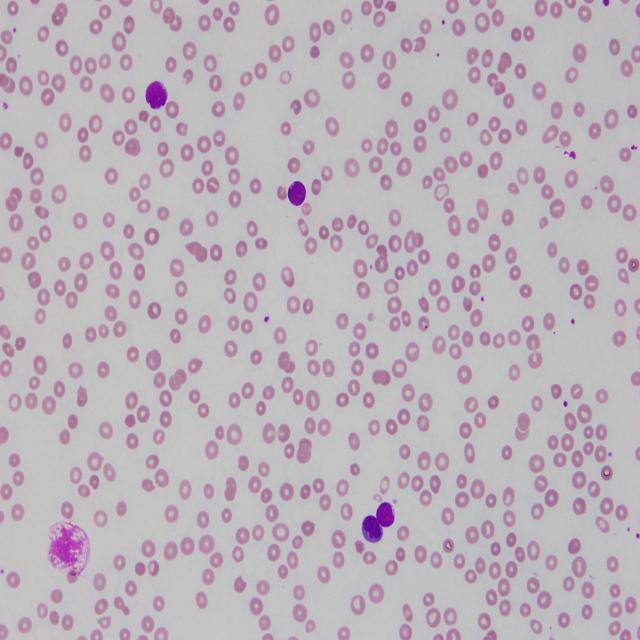cell: (145, 82, 168, 108), (376, 502, 395, 527), (288, 182, 306, 207)
